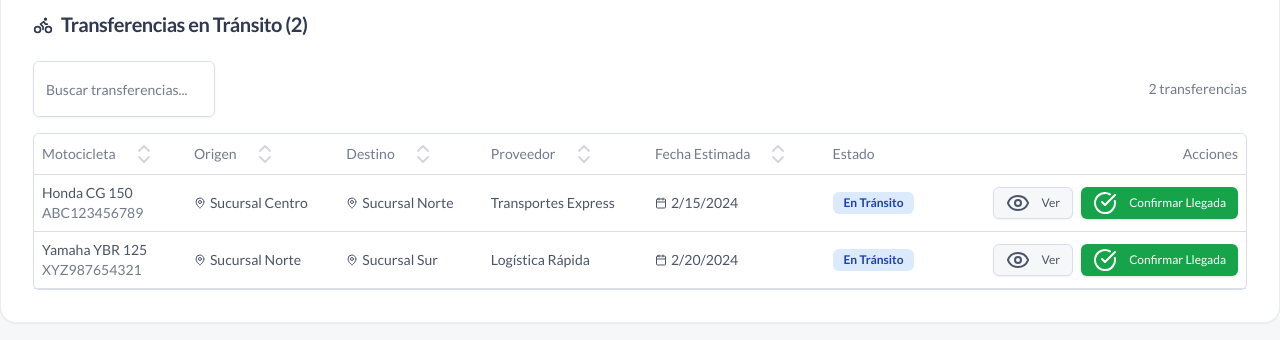
it: TransfersInTransitTable › filtra por nombre de sucursal de origen
Type "Centro" into the field with placeholder "Buscar transferencias..." at [124, 89], box left=33, top=61, right=215, bottom=117
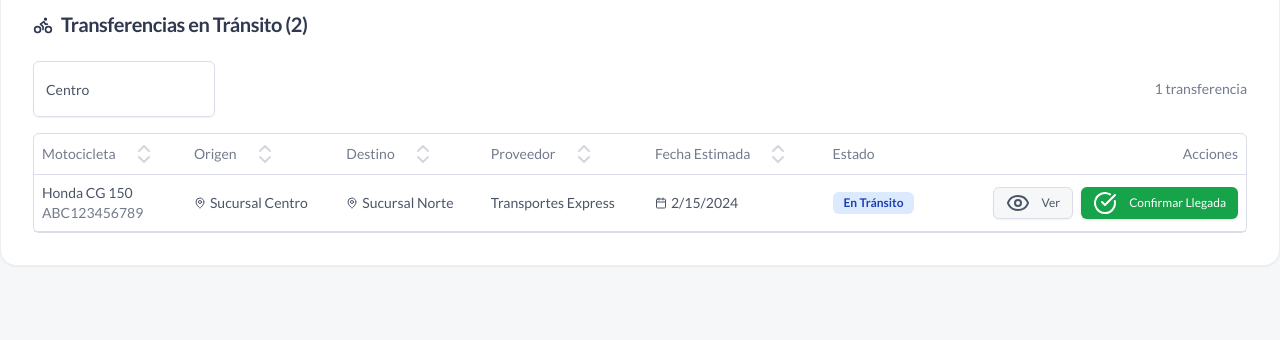
Expected: the text "Honda CG 150" is shown, left=42, top=184, right=133, bottom=200
Expected: the text "Yamaha YBR 125" is gone
